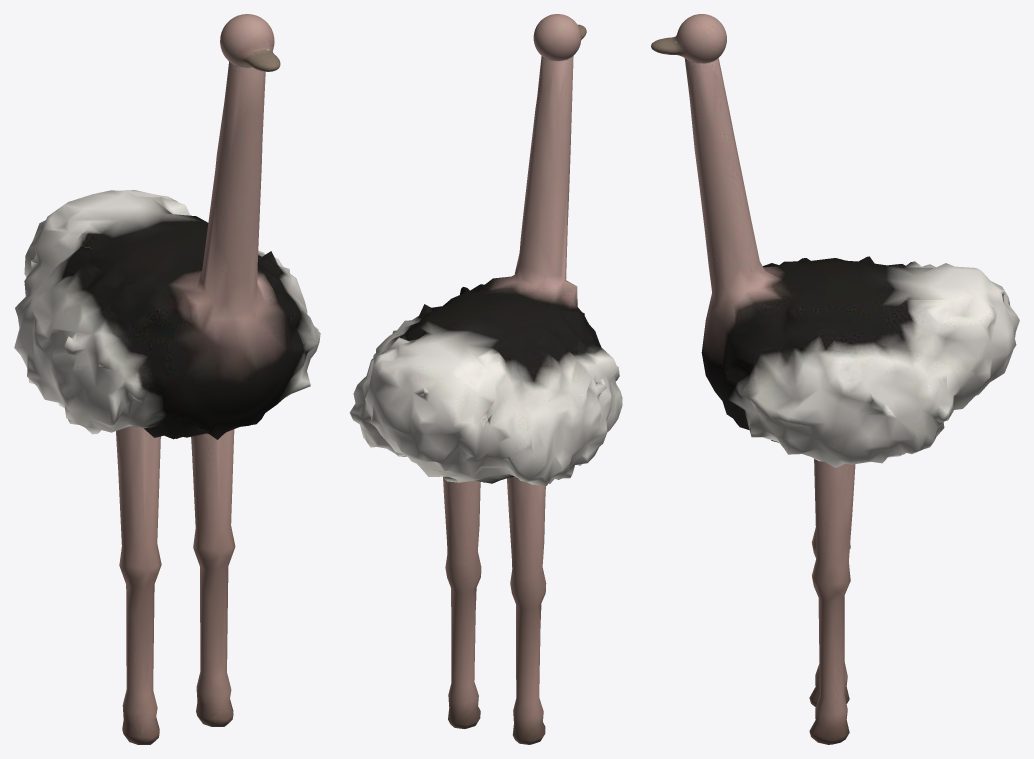
File: animal_ostrich.glb
3 views of the same model, side by side, from view 1: azimuth 30°, elevation 25°; view 2: azimuth 150°, elevation 25°; view 3: azimuth 270°, elevation 25° (orthographic). The views are drawn at different scales.
Parts seen in each view (by area): view 1: animal_ostrich, leg0, leg1, head; view 2: animal_ostrich, leg0, leg1, head; view 3: animal_ostrich, leg1, head.
Boxes of the visible parts, x1,y1,x2,y2 form: animal_ostrich: [14, 62, 320, 439]; leg0: [116, 426, 161, 744]; leg1: [191, 429, 235, 726]; head: [220, 14, 280, 71]; animal_ostrich: [349, 56, 622, 485]; leg0: [507, 477, 546, 744]; leg1: [443, 476, 481, 728]; head: [533, 14, 586, 60]; animal_ostrich: [684, 58, 1019, 467]; leg1: [809, 459, 855, 744]; head: [651, 14, 726, 63].
Bounding box in the file's own units: 0.3294 × 0.995 × 0.4684.
Materials: 1 (1 with a texture image).
